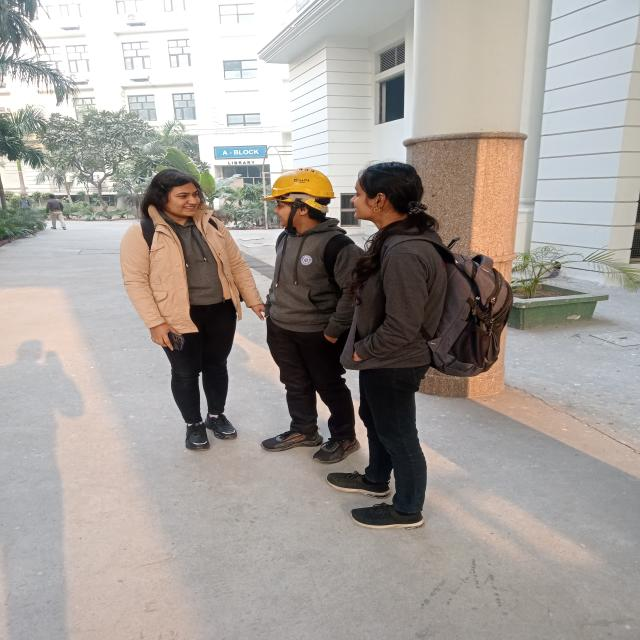no jacket: (262, 166, 366, 463)
unsafe: (118, 167, 266, 452), (341, 160, 452, 528), (46, 193, 67, 230)
